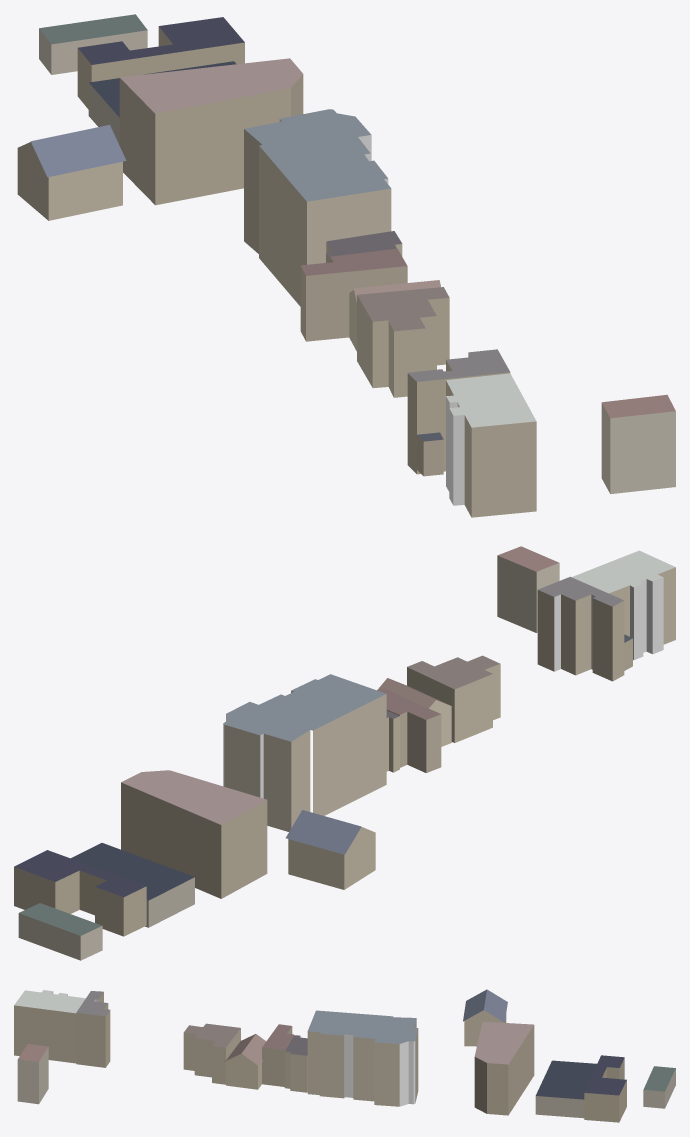
3 renders of one model, top to bottom at view 1: azimuth 30°, elevation 25°; view 2: azimuth 150°, elevation 25°; view 3: azimuth 270°, elevation 25°, orthographic. The views are drawn at different scales.
Parts seen in each view (by area): view 1: tuile; view 2: tuile; view 3: tuile.
Boxes of the visible parts, x1,y1,x2,y2 form: tuile: (17,14,675,517); tuile: (14,546,675,960); tuile: (14,989,675,1122).
Bounding box in the file's own units: 47.67 × 16.56 × 157.
